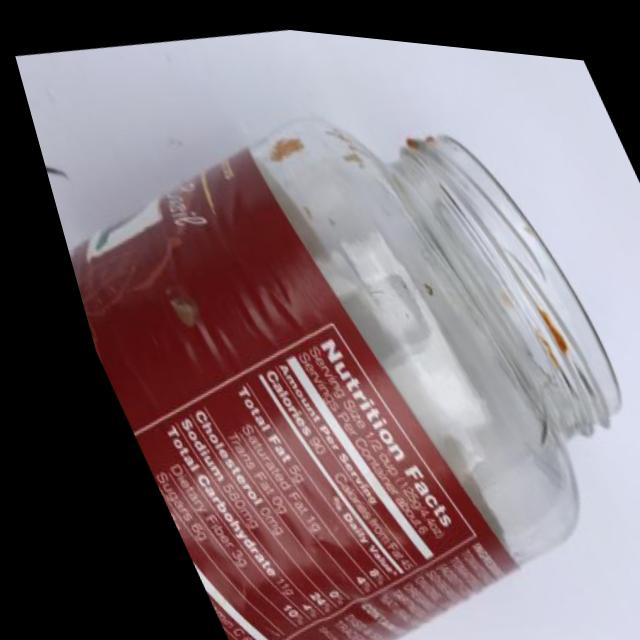glass: (6, 29, 640, 640)
